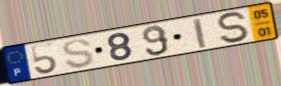5: (29, 40, 60, 76)
8: (107, 31, 135, 62)
9: (141, 24, 171, 58)
I: (191, 16, 208, 50)
S: (214, 10, 253, 44), (61, 38, 96, 70)
